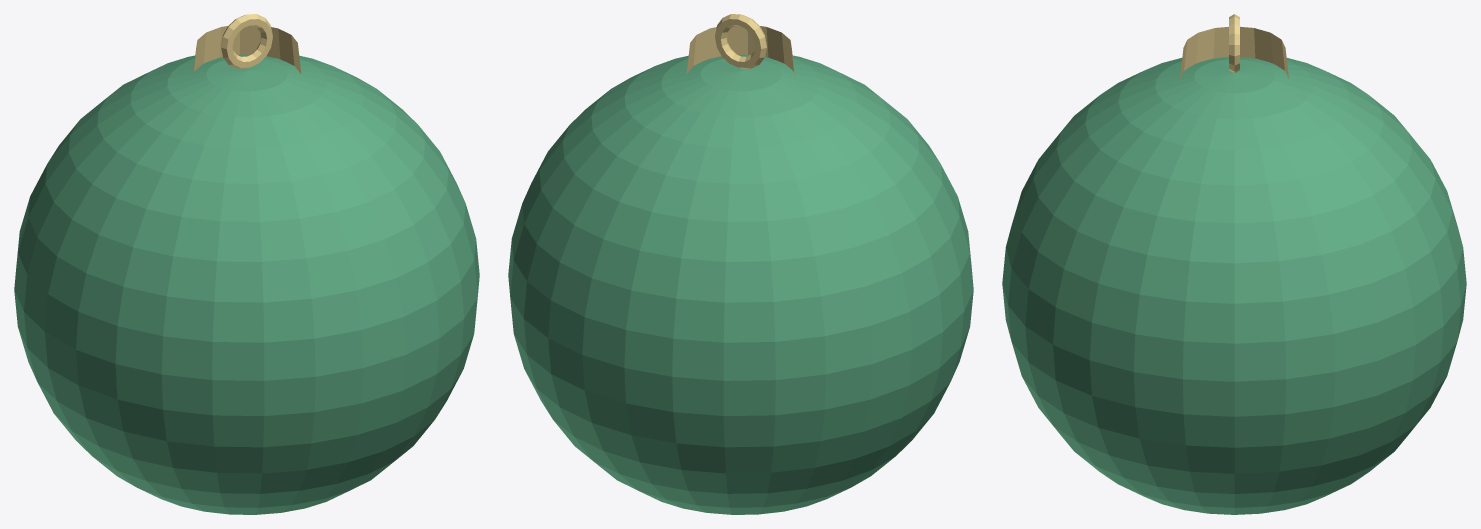
The model's file is bauble-green-1in.glb.
The picture shows the model from 3 angles, left to right: view 1: azimuth 30°, elevation 25°; view 2: azimuth 150°, elevation 25°; view 3: azimuth 270°, elevation 25°; orthographic projection.
Parts seen in each view (by area): view 1: bauble; view 2: bauble; view 3: bauble.
Boxes of the visible parts, x1,y1,x2,y2 form: bauble: (14,14,479,514); bauble: (508,14,973,514); bauble: (1002,14,1466,514).
Size of the model in its own units: 0.0224 by 0.0254 by 0.0224.
